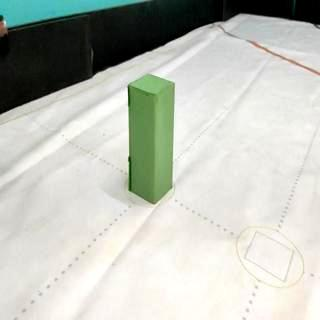greenbox: (128, 74, 176, 202)
